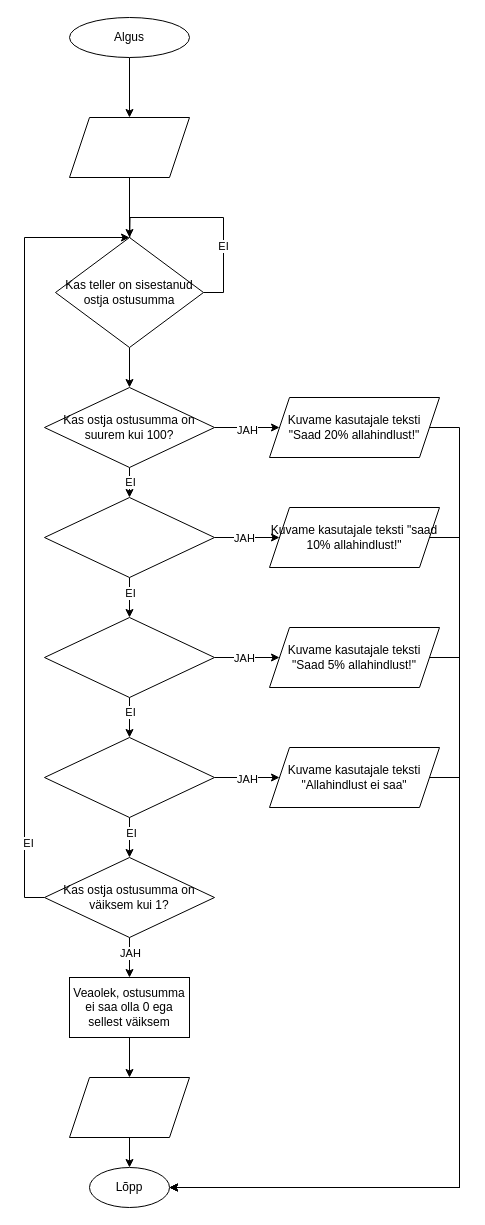
This 485x1225 diagram has some shape labels left out. Here are the shapes that lost their labels. From the top down, the centre of each, then its label:
(x=129, y=147): Kuva kasutajale tekst "Sisesta ostusumma"
(x=129, y=537): Kas ostja ostusumma on suurem kui 50 ja väiksem kui 101?
(x=129, y=657): Kas ostja ostusumma on suurem kui 20 ja väiksem kui 51?
(x=129, y=777): Kas ostja ostusumma on väiksem kui 21?
(x=129, y=1107): Kuva tekst "Sisestatud vigane arv"
